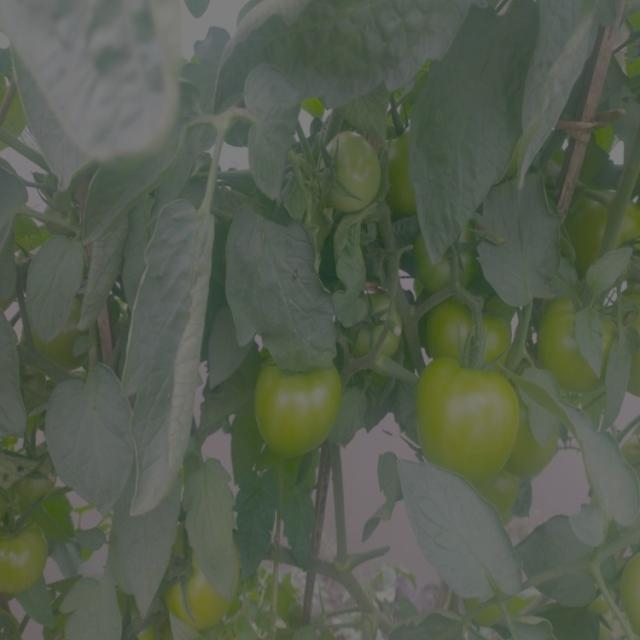tomato: (416, 364, 515, 487), (164, 522, 248, 629), (256, 359, 335, 454), (541, 295, 608, 397), (562, 191, 640, 269), (424, 299, 512, 363), (311, 131, 376, 210), (415, 227, 478, 290), (345, 292, 399, 363), (1, 524, 58, 585), (521, 393, 561, 478), (33, 306, 93, 361), (384, 127, 424, 208), (613, 288, 640, 402), (611, 546, 640, 634)
